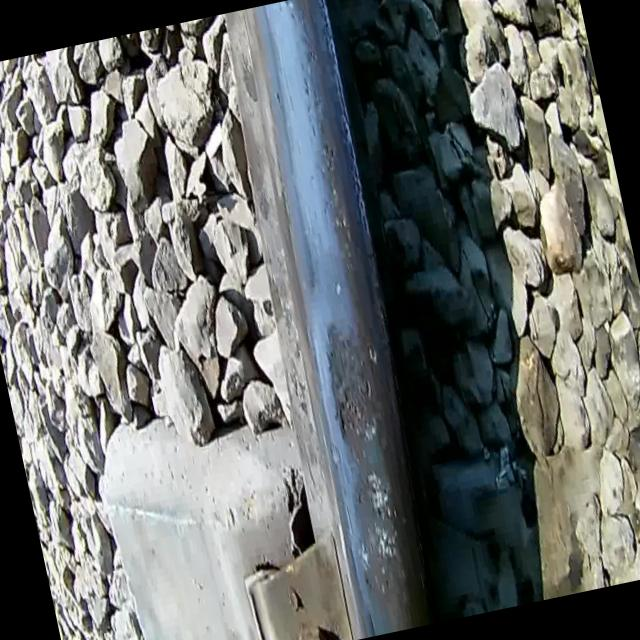Spallings: (342, 474, 418, 600), (326, 366, 382, 444)
Squats: (307, 304, 433, 635)
